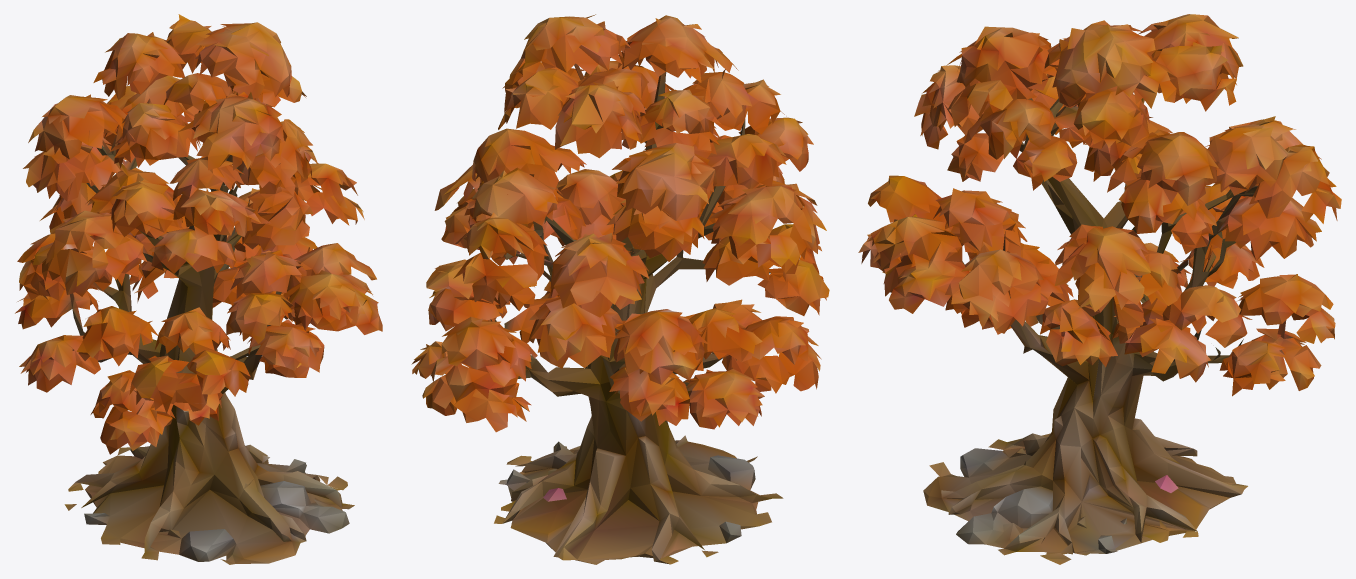
The model's file is autumn_tree_b.glb.
3 renders of one model, left to right at view 1: azimuth 30°, elevation 25°; view 2: azimuth 150°, elevation 25°; view 3: azimuth 270°, elevation 25°, orthographic. The views are drawn at different scales.
Parts seen in each view (by area): view 1: tripo_node_c9b0f420-93c0-42fe-98bd-2fd454834c59; view 2: tripo_node_c9b0f420-93c0-42fe-98bd-2fd454834c59; view 3: tripo_node_c9b0f420-93c0-42fe-98bd-2fd454834c59.
Part boxes in pixels (left/top/right/bottom): tripo_node_c9b0f420-93c0-42fe-98bd-2fd454834c59: left=15, top=14, right=382, bottom=564; tripo_node_c9b0f420-93c0-42fe-98bd-2fd454834c59: left=411, top=14, right=829, bottom=564; tripo_node_c9b0f420-93c0-42fe-98bd-2fd454834c59: left=858, top=14, right=1341, bottom=564.
Bounding box in the file's own units: 0.7474 × 0.979 × 0.8652.
